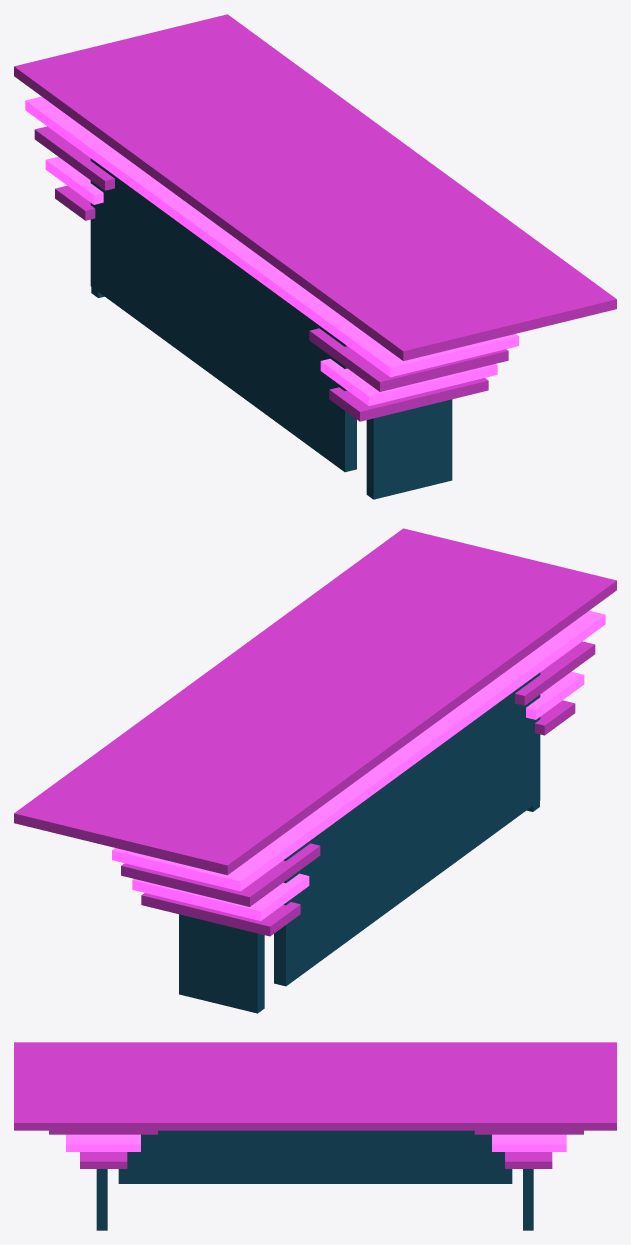
File: panel1.glb
3 views of the same model, one above another, from view 1: azimuth 30°, elevation 25°; view 2: azimuth 150°, elevation 25°; view 3: azimuth 270°, elevation 25° (orthographic). The views are drawn at different scales.
Parts seen in each view (by area): view 1: Cube.003, Cube.012, Cube.002, Cube.001, Cube.005, Cube.007, Cube.010, Cube.008, Cube.009, Cube.011; view 2: Cube.003, Cube.012, Cube.002, Cube.006, Cube.008, Cube.009, Cube.011, Cube.005, Cube.007, Cube.010; view 3: Cube.003, Cube.012, Cube.007, Cube.009, Cube.010, Cube.011, Cube.001, Cube.006, Cube.008, Cube.005.
Part boxes in pixels (box(x1,y1,x2,y2)): Cube.003: box(14, 14, 616, 360); Cube.012: box(90, 158, 356, 472); Cube.002: box(25, 96, 518, 377); Cube.001: box(366, 399, 452, 499); Cube.005: box(309, 328, 508, 391); Cube.007: box(320, 358, 497, 405); Cube.010: box(329, 378, 488, 421); Cube.008: box(34, 126, 114, 190); Cube.009: box(45, 156, 103, 204); Cube.011: box(55, 185, 95, 220); Cube.003: box(14, 528, 616, 875); Cube.012: box(274, 672, 540, 986); Cube.002: box(112, 610, 605, 891); Cube.006: box(179, 914, 264, 1013); Cube.008: box(121, 843, 320, 906); Cube.009: box(132, 873, 309, 920); Cube.011: box(141, 893, 300, 936); Cube.005: box(515, 641, 595, 705); Cube.007: box(526, 671, 584, 719); Cube.010: box(535, 700, 575, 735); Cube.003: box(14, 1042, 616, 1130); Cube.012: box(118, 1130, 512, 1183); Cube.007: box(66, 1134, 140, 1151); Cube.009: box(492, 1134, 566, 1151); Cube.010: box(80, 1152, 127, 1168); Cube.011: box(505, 1152, 552, 1168); Cube.001: box(96, 1169, 107, 1230); Cube.006: box(523, 1169, 533, 1230); Cube.008: box(474, 1130, 583, 1134); Cube.005: box(49, 1130, 157, 1134).
Bounding box in the file's own units: 1.28 × 1.1 × 4.02.
